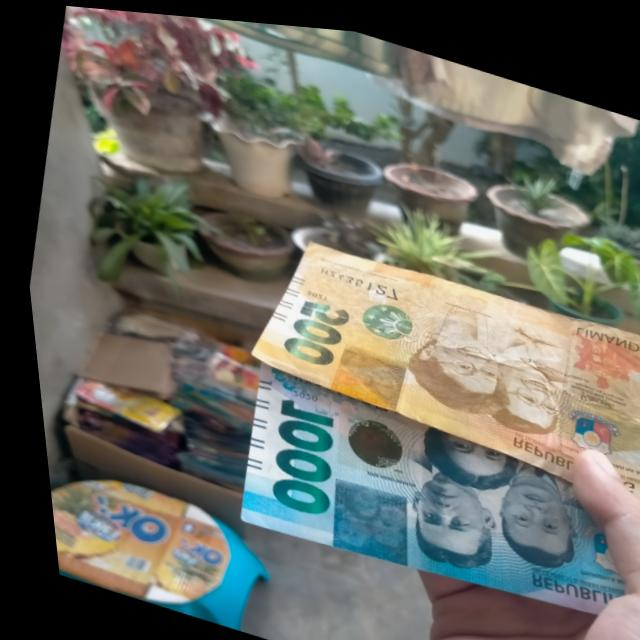concealed_value: (307, 466, 412, 564), (309, 328, 410, 410)
optically_variable_device: (319, 391, 415, 488), (336, 271, 425, 357)
security_thread: (625, 328, 640, 494)
value: (232, 381, 351, 527), (250, 265, 361, 379)
